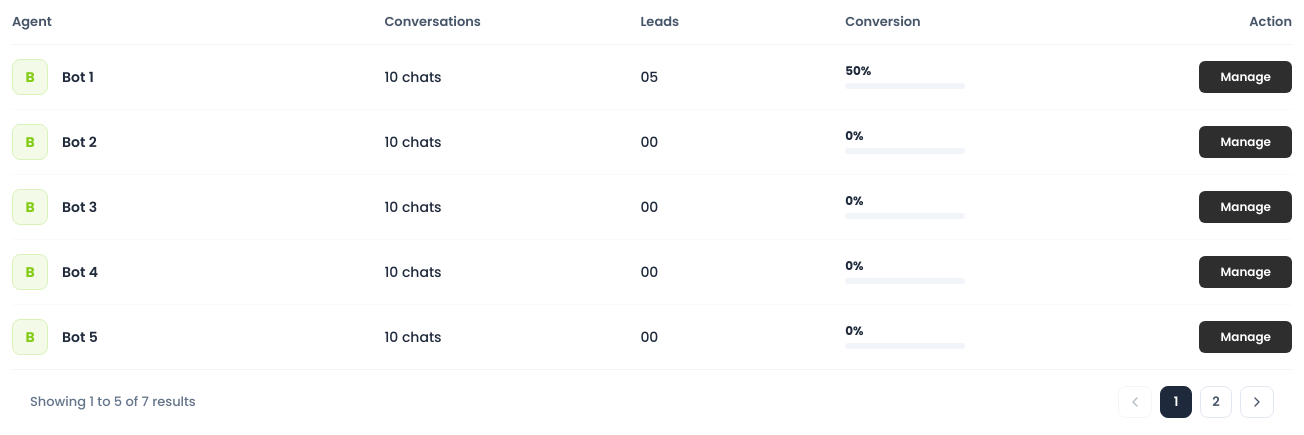
it: PerformanceTable Component › should render bot stats, conversion rate, and handle pagination
The image size is (1304, 435).
expect the text "Bot 1" is shown: met, box [62, 66, 94, 88]
expect the text "10 chats" in the row of "Bot 1" is shown: met, box [384, 66, 442, 86]
Click the button "2" at point(1216, 402), box [1200, 386, 1232, 418]
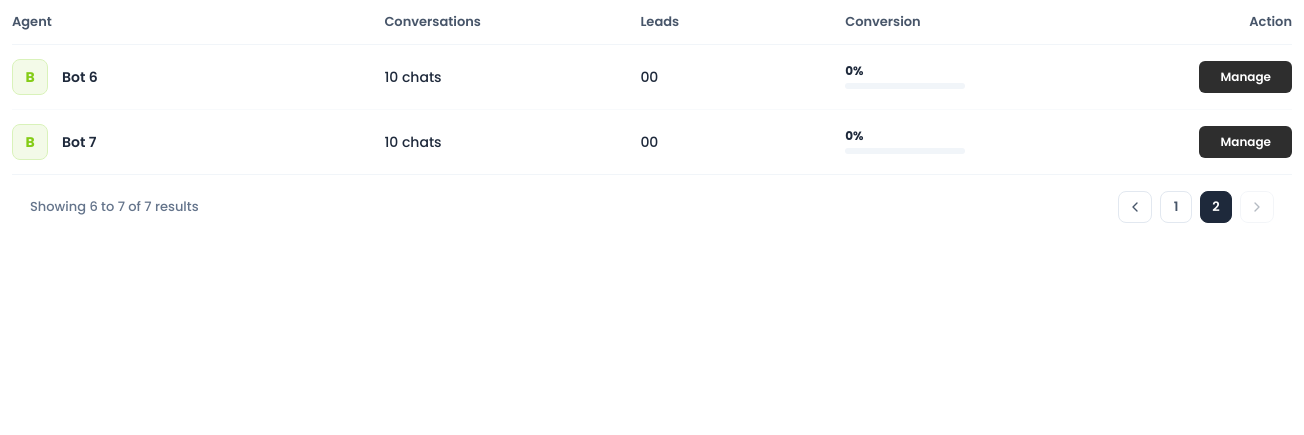
expect the text "Bot 6" is shown: met, box [62, 66, 98, 88]
expect the text "Showing 6 to 7 of 7 results" is shown: met, box [30, 197, 199, 217]
